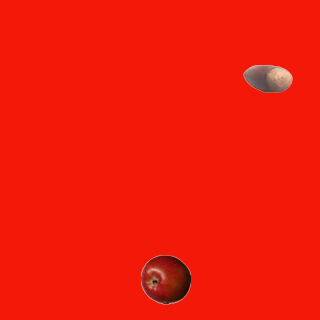Apple Braeburn: (140, 254, 190, 304)
Hazelnut: (242, 53, 292, 103)
